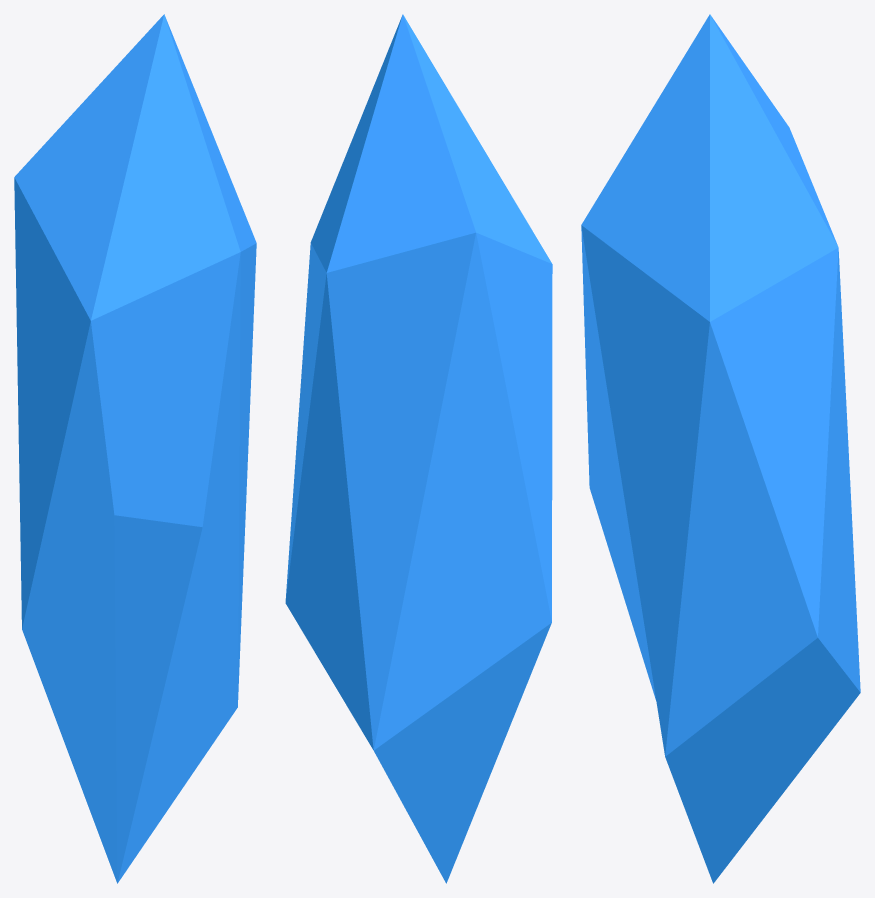
Rendered from ProjLasquinha.fbx.
3 views of the same model, side by side, from view 1: azimuth 30°, elevation 25°; view 2: azimuth 150°, elevation 25°; view 3: azimuth 270°, elevation 25° (orthographic). The views are drawn at different scales.
Visible parts, largest first — view 1: Icosphere; view 2: Icosphere; view 3: Icosphere.
Boxes of the visible parts, box(x1,y1,x2,y2) form: Icosphere: box(14, 14, 256, 883); Icosphere: box(285, 14, 552, 883); Icosphere: box(581, 14, 860, 883).
Bounding box in the file's own units: 53.08 × 183 × 51.91.
